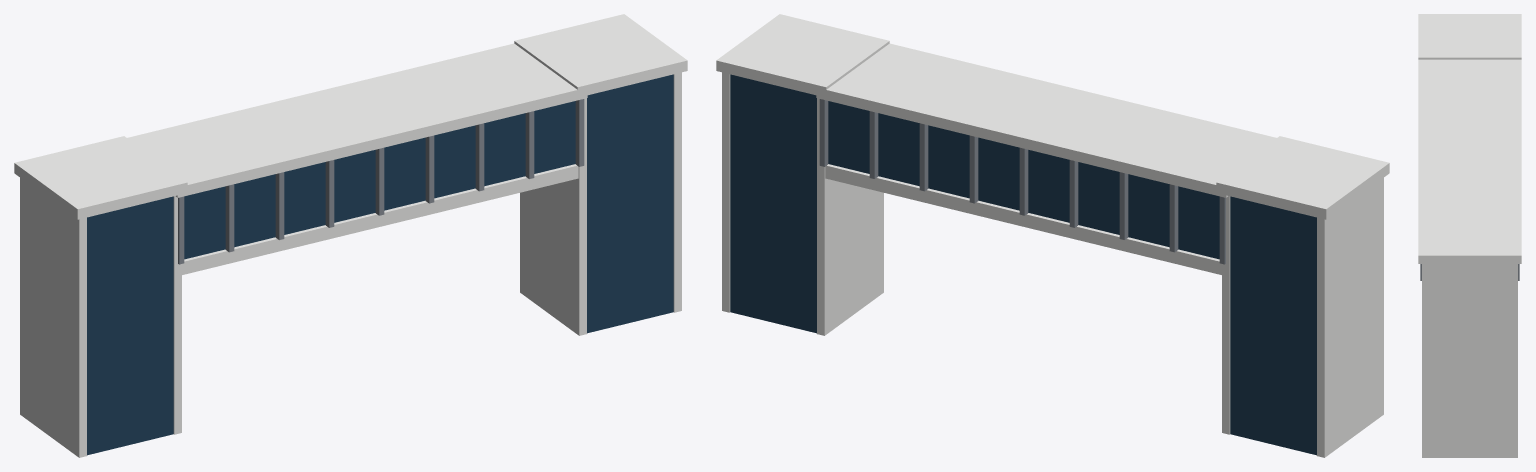
The model's file is pasarela-pit.glb.
The picture shows the model from 3 angles, left to right: view 1: azimuth 30°, elevation 25°; view 2: azimuth 150°, elevation 25°; view 3: azimuth 270°, elevation 25°; orthographic projection. The views are drawn at different scales.
Visible parts, largest first — view 1: pasarela-pit; view 2: pasarela-pit; view 3: pasarela-pit.
Part boxes in pixels (x1,y1,x2,y2): pasarela-pit: (14, 14, 687, 457); pasarela-pit: (716, 14, 1389, 457); pasarela-pit: (1418, 14, 1521, 457).
Size of the model in its own units: 24.4 by 9.6 by 4.4.
